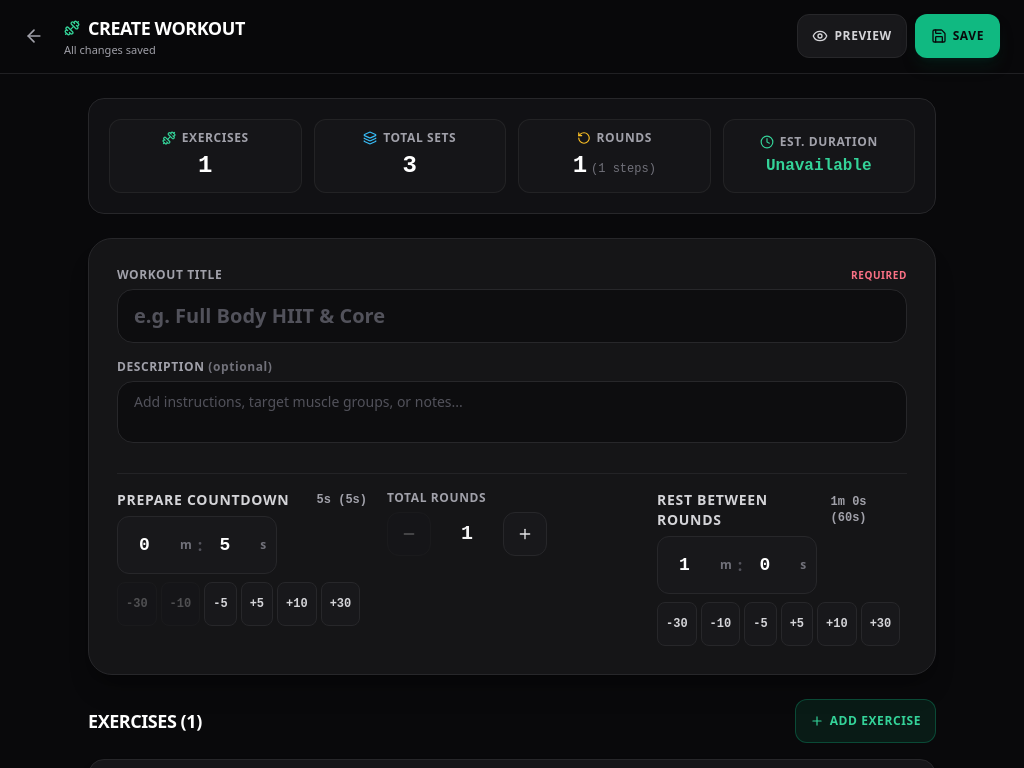
Scenario: WorkoutBuilder Component › prompts confirmation when deleting an exercise and removes upon confirmation
Note: Add second exercise first
Click the button with aria-label "add new exercise" at (865, 720), box [795,698,936,742]
(page scrolled)
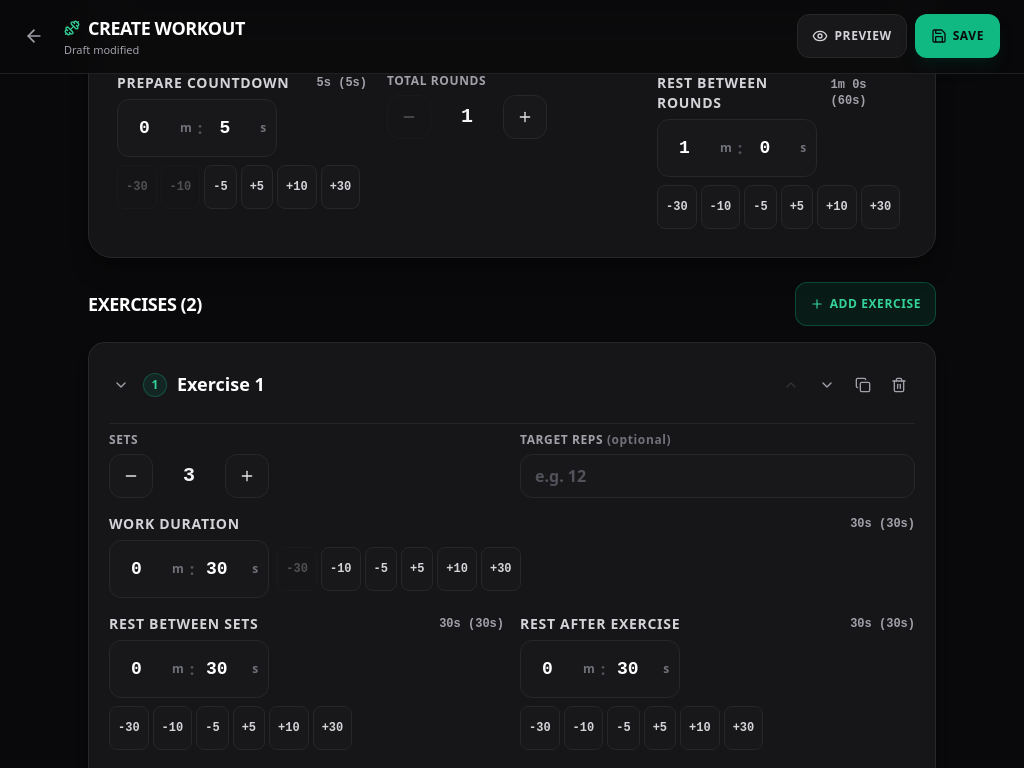
Now the number of fields with placeholder "Exercise Name (e.g. Push-ups)" is 2
Click the button named "delete exercise 1" at (899, 384), box [883,362,915,406]
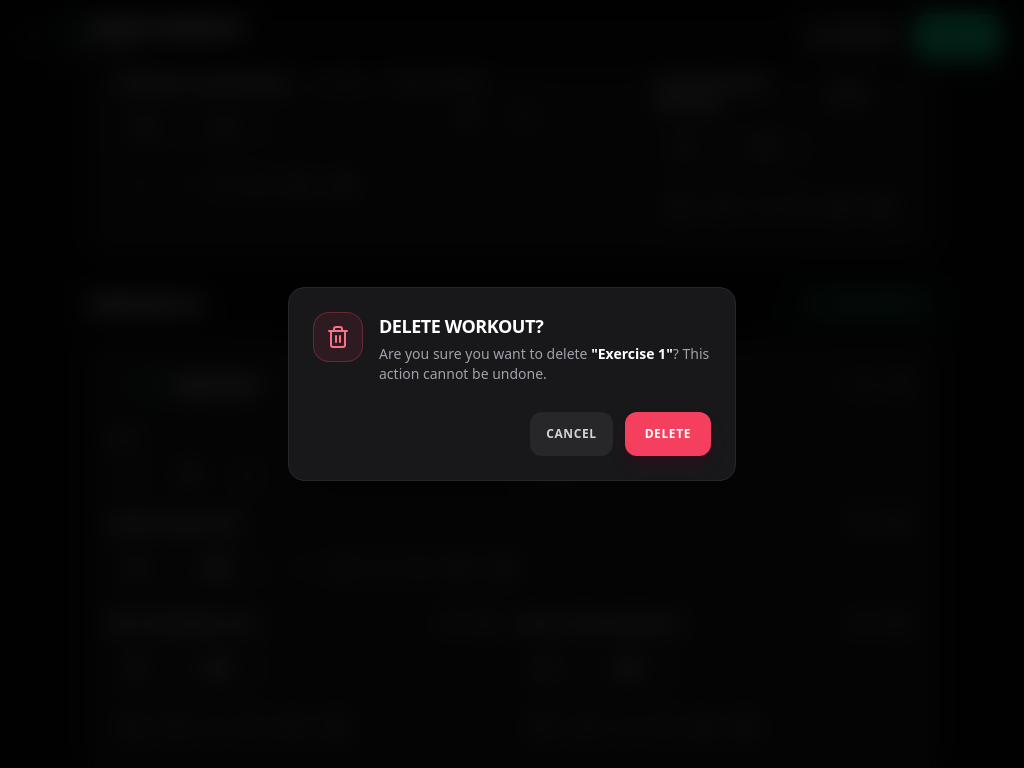
Now the dialog is shown
Now the heading "Delete Workout?" is shown, box [379,314,543,338]
Click the button "Delete" at (668, 434), box [625,412,711,456]
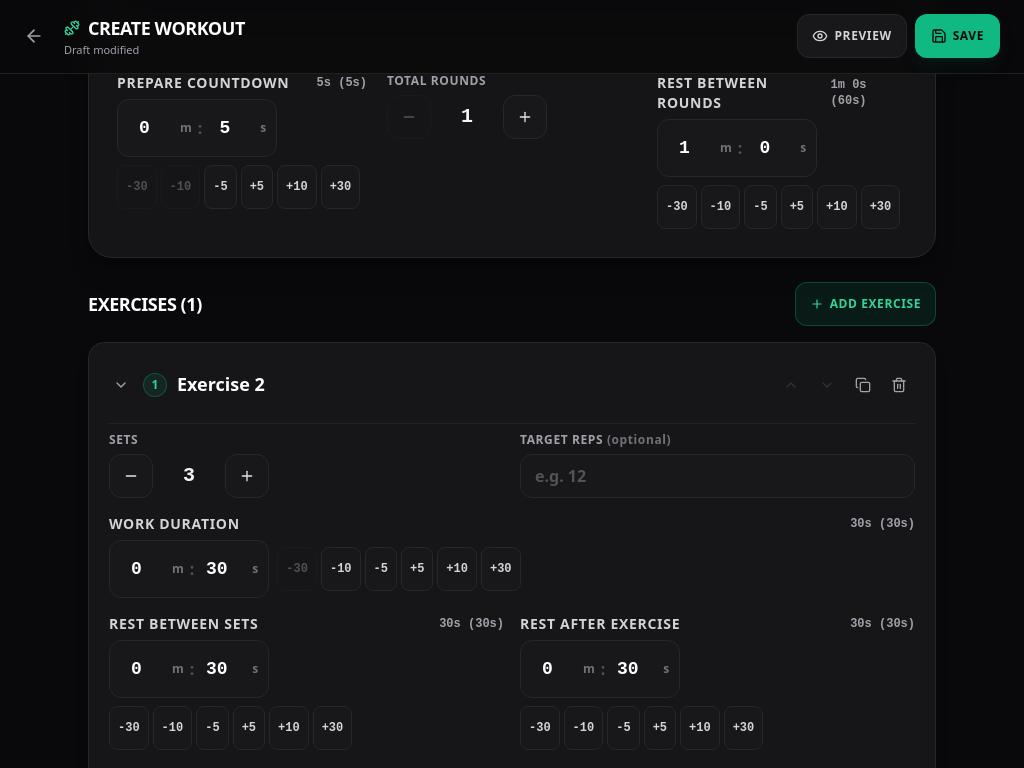
Now the dialog is gone
Now the number of fields with placeholder "Exercise Name (e.g. Push-ups)" is 1, box [177,362,767,406]
